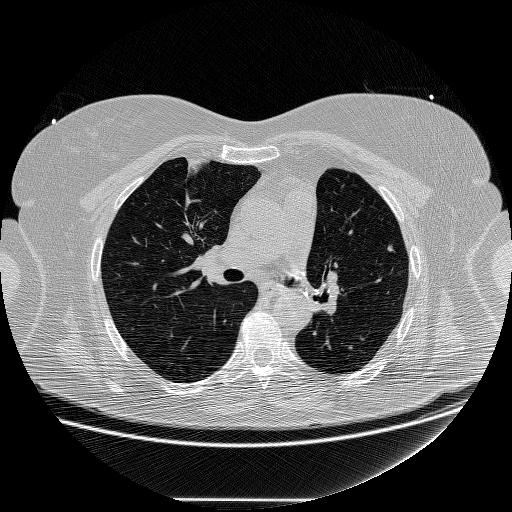nodule: (385, 243, 396, 254)
